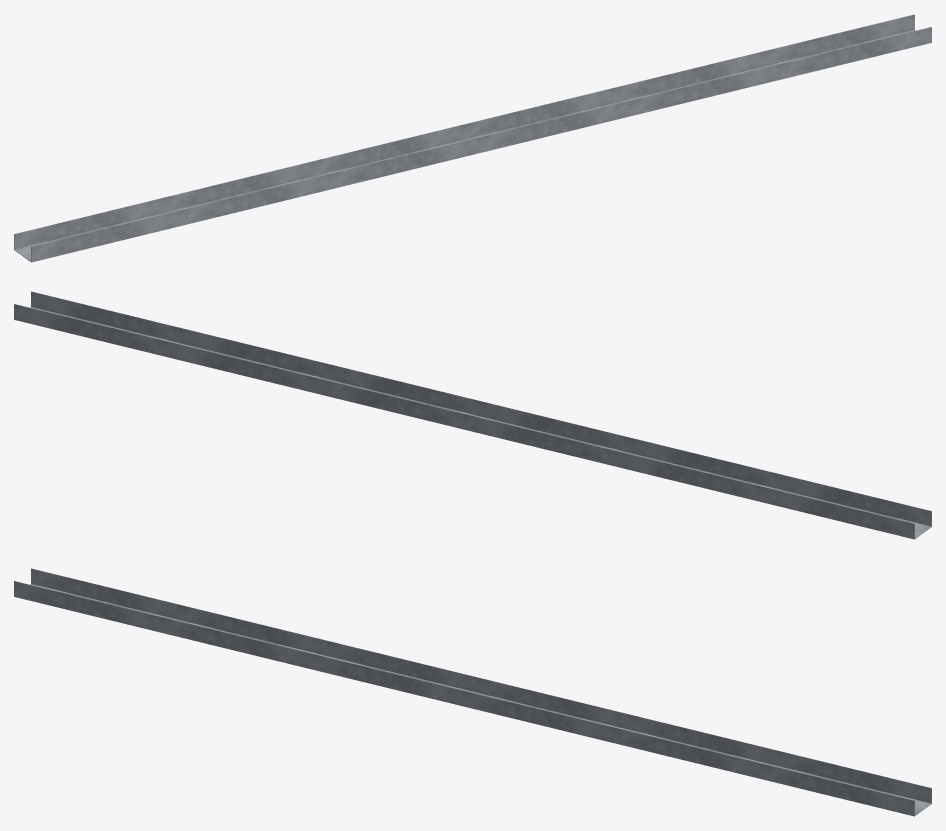
File: ELE-ELD-005.glb
The picture shows the model from 3 angles, top to bottom: view 1: azimuth 30°, elevation 25°; view 2: azimuth 150°, elevation 25°; view 3: azimuth 330°, elevation 25°; orthographic projection.
Parts seen in each view (by area): view 1: ELE-ELD-005_calha; view 2: ELE-ELD-005_calha; view 3: ELE-ELD-005_calha.
Boxes of the visible parts, bbox=[...] form: ELE-ELD-005_calha: bbox=[14, 14, 931, 262]; ELE-ELD-005_calha: bbox=[14, 291, 931, 539]; ELE-ELD-005_calha: bbox=[14, 568, 931, 816].
Size of the model in its own units: 3 by 0.05 by 0.1.
Materials: 2 (1 with a texture image).
